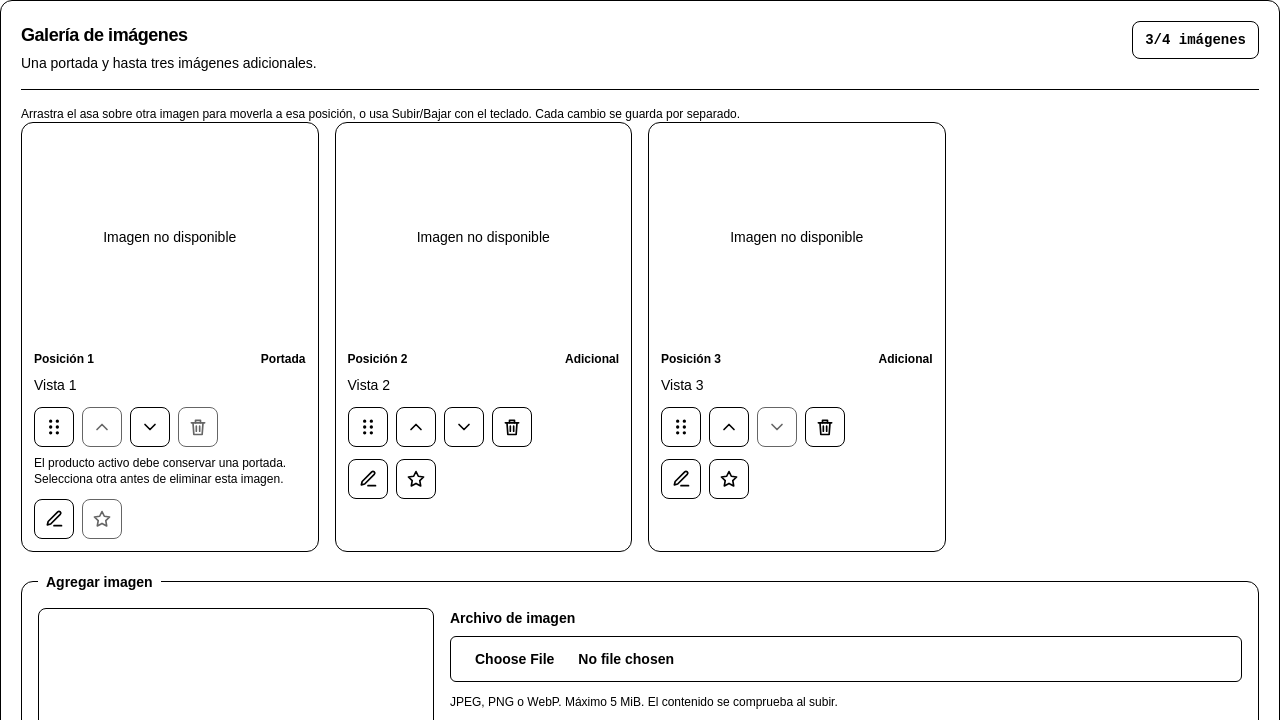
Test case: administrative gallery editing › keeps usable focus when another administrator has removed the edited image
What coordinates should you click on to do the following:
click the button named "Subir Vista 3"
I would click on:
 (729, 427)
Its box is [709,407,749,447].
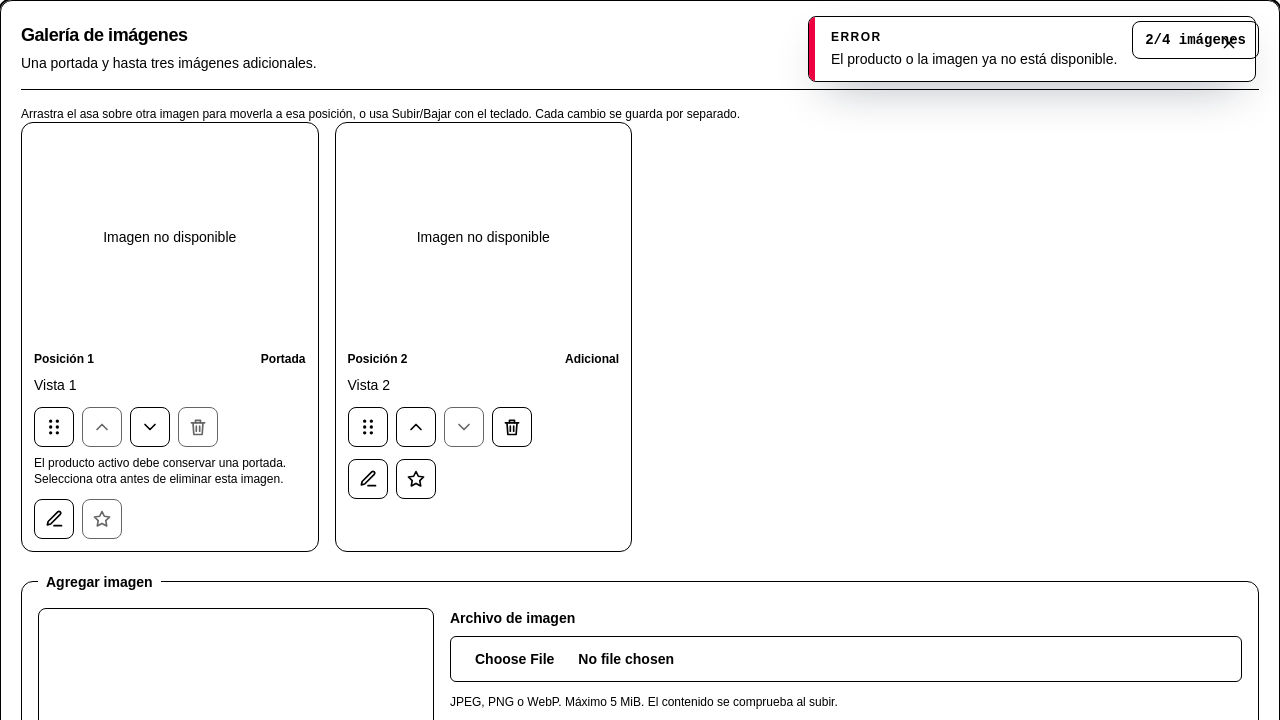
Expected: the text named "2 de 4 imágenes" is shown, [1132,21,1259,59]
